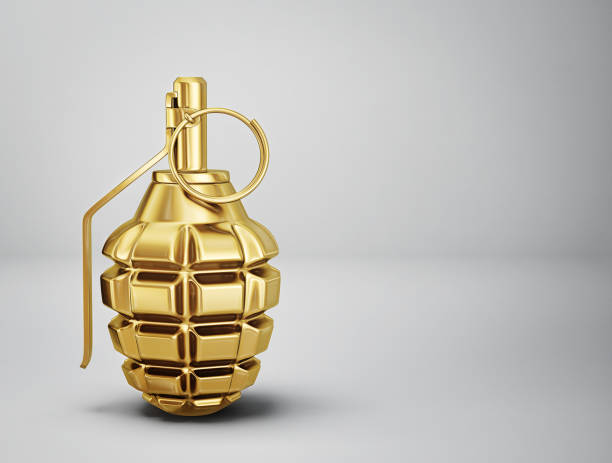e1: (80, 76, 282, 415)
